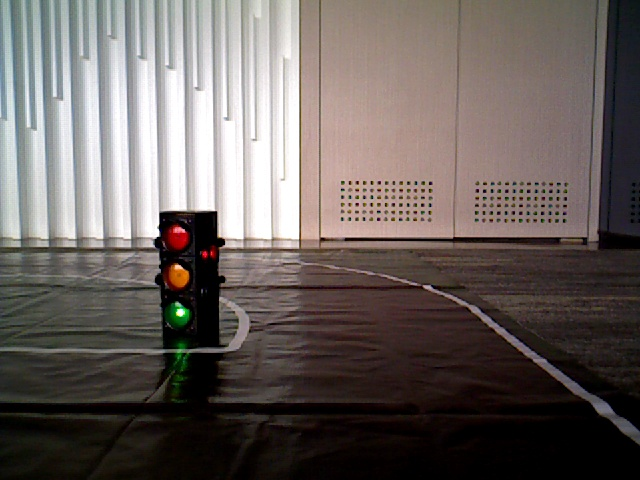green: (161, 215, 201, 331)
